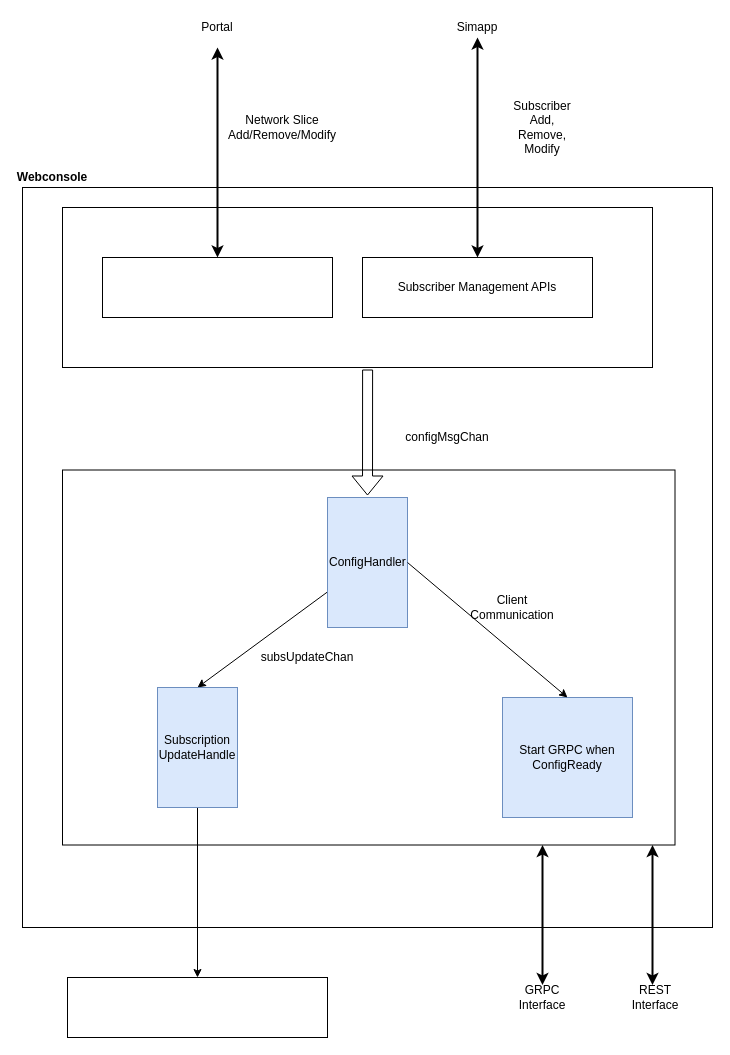
Some shapes in this 730 by 1055 pixel diagram are drawn without their labels. Here are the shapes that lost their labels. From the top down, the centre of each, then its label:
At point 217,287: "Slice Management APIs".
At point 197,1007: "MongoDB".
